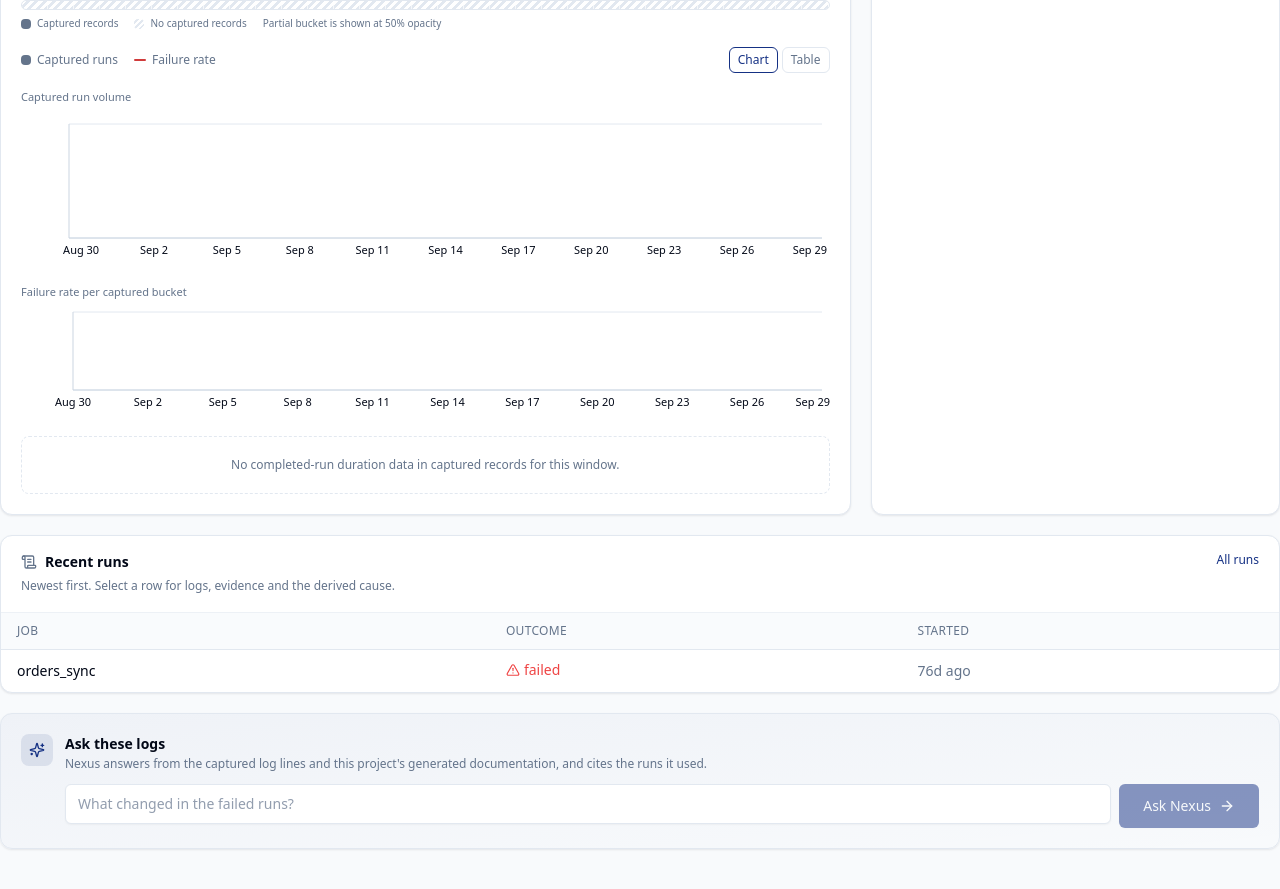
RuntimeLogsPage › opens an accessible execution drawer from a run row
(page scrolled)
Click the text "orders_sync": [56, 670] box [1,649,490,692]
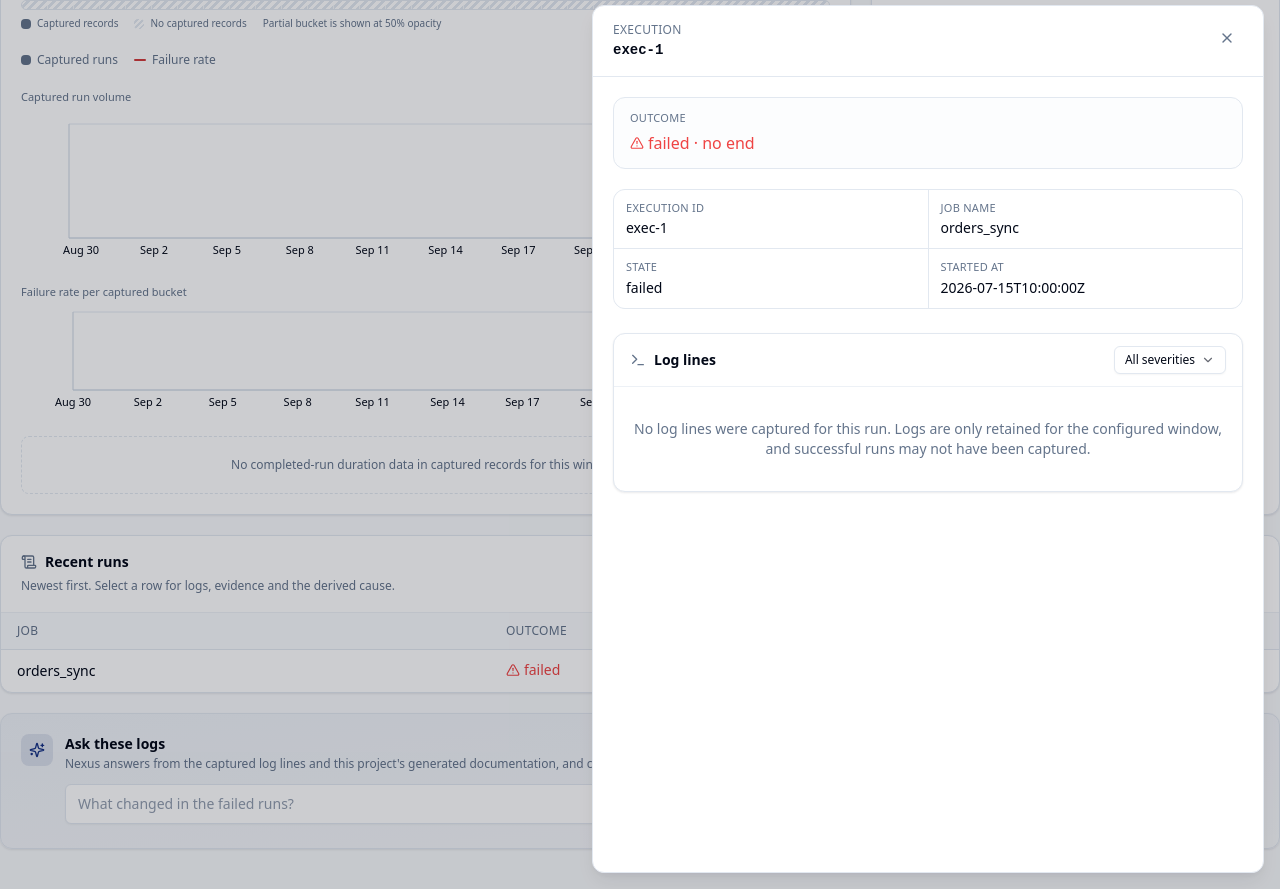
Now the dialog named "Runtime details" is shown, box [592,5,1264,873]
Now the heading "exec-1" is shown, box [613,42,663,58]
